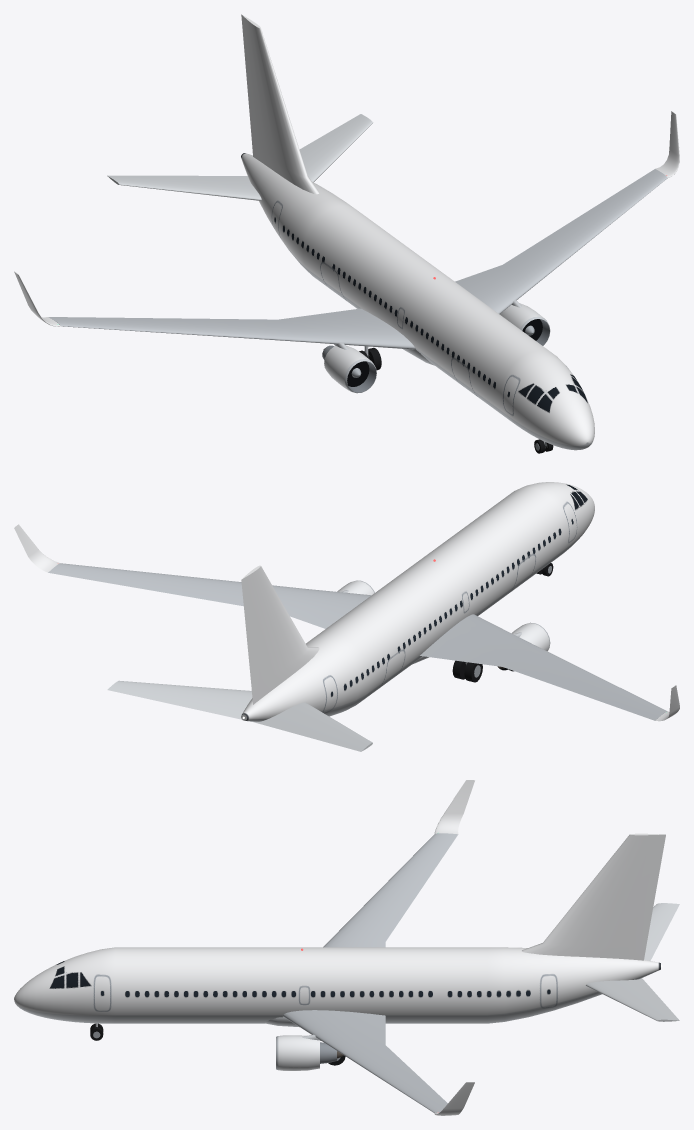
The picture shows the model from 3 angles, top to bottom: view 1: azimuth 30°, elevation 25°; view 2: azimuth 150°, elevation 25°; view 3: azimuth 270°, elevation 25°; orthographic projection. The views are drawn at different scales.
Visible parts, largest first — view 1: body; view 2: body, gear; view 3: body.
Boxes of the visible parts, bbox=[...] form: body: bbox=[14, 14, 679, 450]; body: bbox=[14, 482, 679, 751]; gear: bbox=[452, 563, 553, 682]; body: bbox=[14, 780, 679, 1115].
Size of the model in its own units: 37.18 by 11.67 by 34.61.
19 materials, 1 textured.
